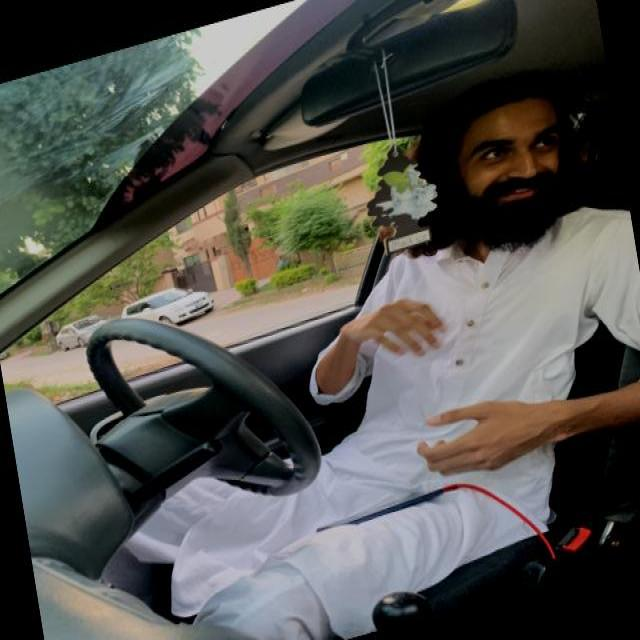no-seatbelt: (298, 214, 630, 588)
